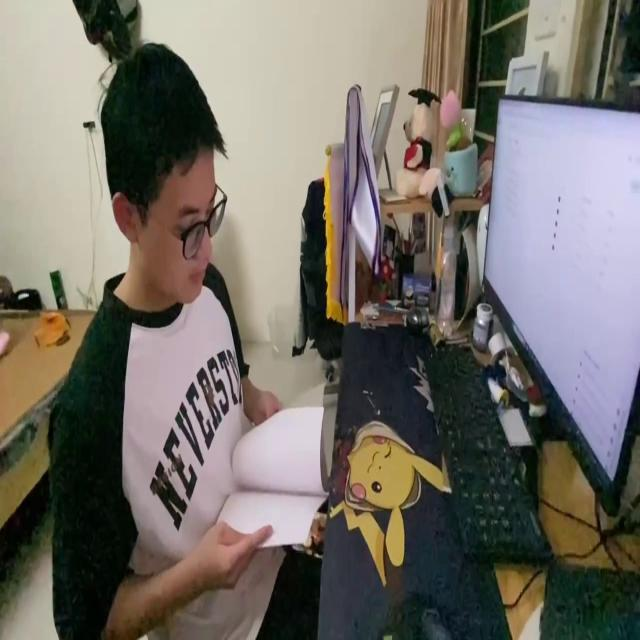book: (219, 399, 326, 554)
laptop: (484, 88, 640, 521)
student: (47, 37, 326, 640)
